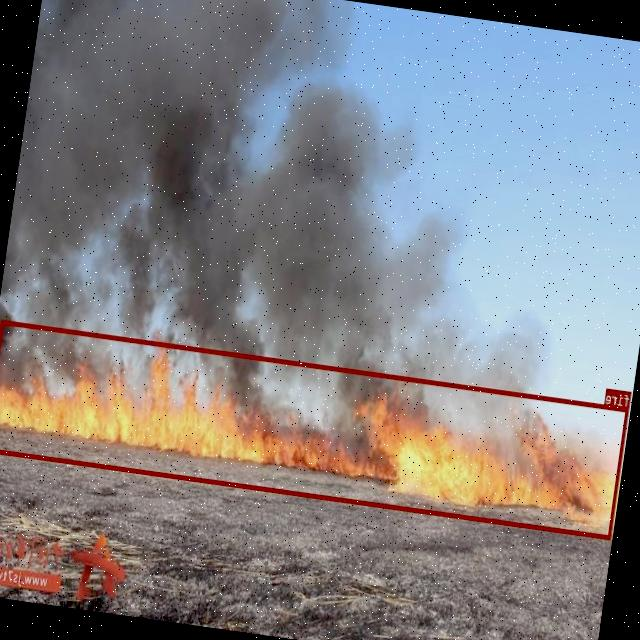fire: (0, 319, 629, 539)
